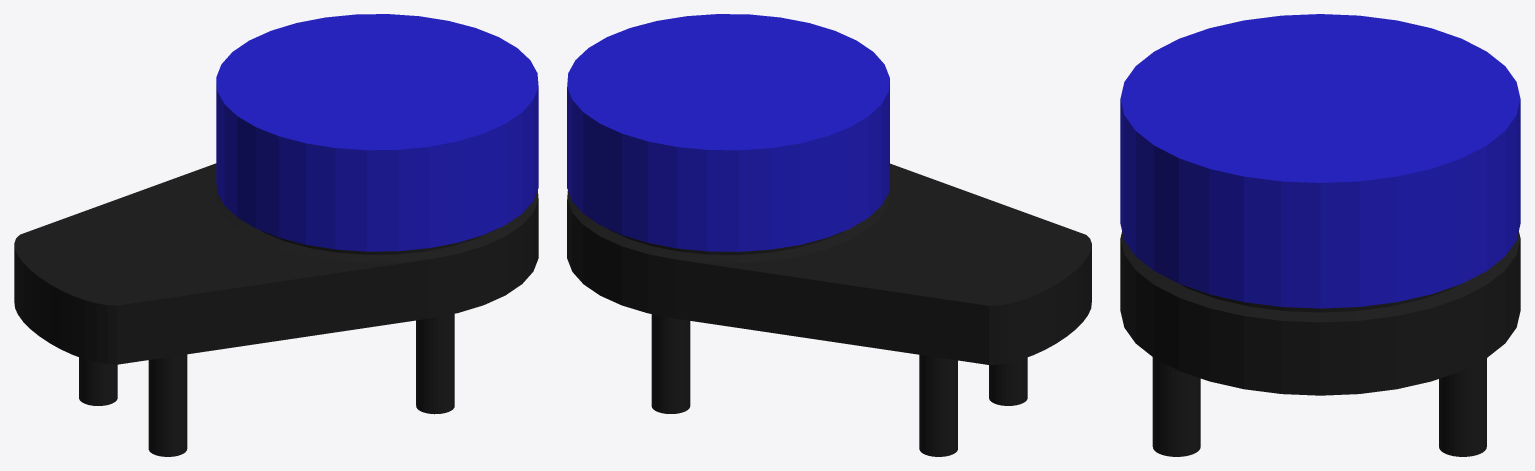
Rendered from lidar.dae.
3 renders of one model, left to right at view 1: azimuth 30°, elevation 25°; view 2: azimuth 150°, elevation 25°; view 3: azimuth 270°, elevation 25°, orthographic. The views are drawn at different scales.
Visible parts, largest first — view 1: visual_laser; view 2: visual_laser; view 3: visual_laser.
Boxes of the visible parts, x1,y1,x2,y2 form: visual_laser: (14, 14, 538, 456); visual_laser: (567, 14, 1091, 456); visual_laser: (1120, 14, 1520, 456).
Bounding box in the file's own units: 0.111 × 0.065 × 0.0625.
